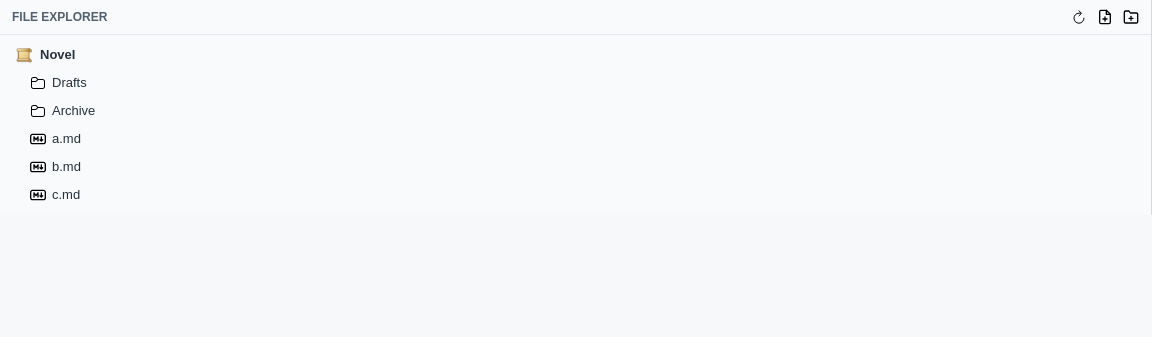
it: FileExplorer context-menu Move — enablement (#327) › #340: enables Move… when the selection contains a folder
Click the list item "a.md". click: (38, 139)
box: x1=6 y1=125 x2=1145 y2=153
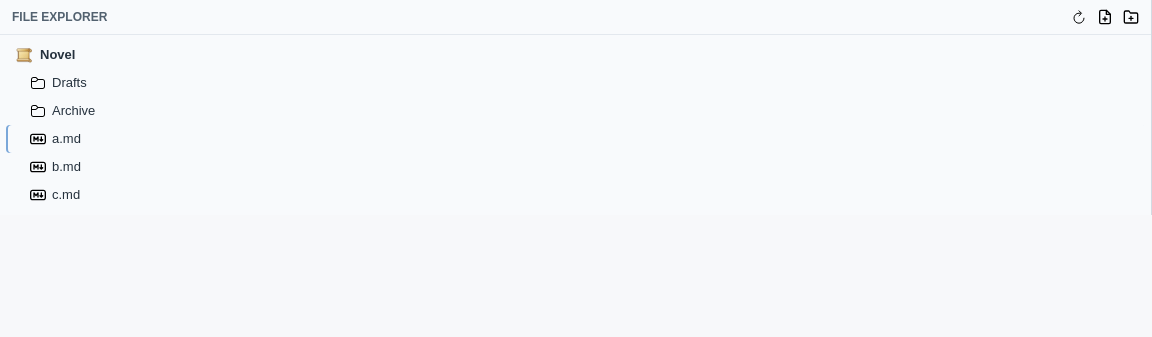
Click the list item "Drafts". click: (69, 82)
box: x1=6 y1=69 x2=1145 y2=97
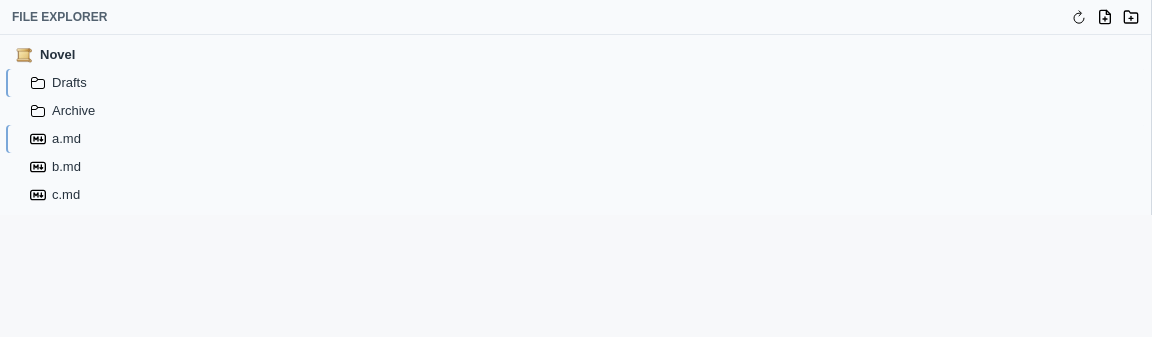
Right-click the list item "Drafts" at (69, 82), box x1=6 y1=69 x2=1145 y2=97
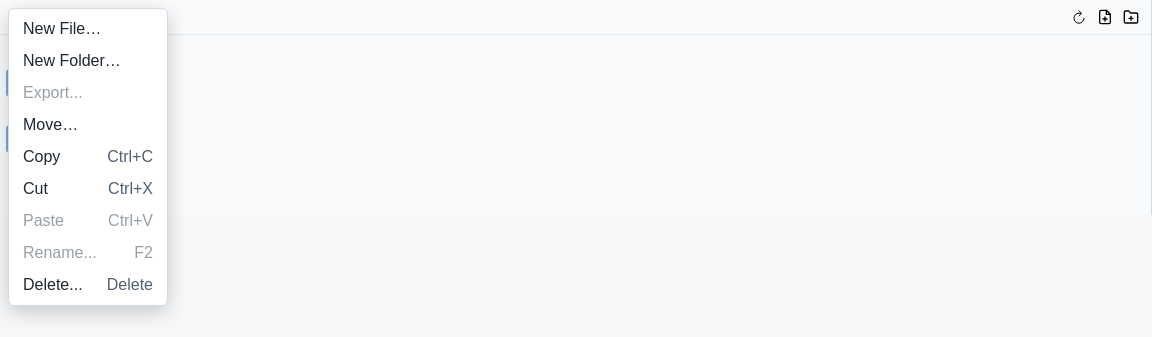
Check: the menu item "Move…" is enabled, box x1=13 y1=109 x2=163 y2=141
